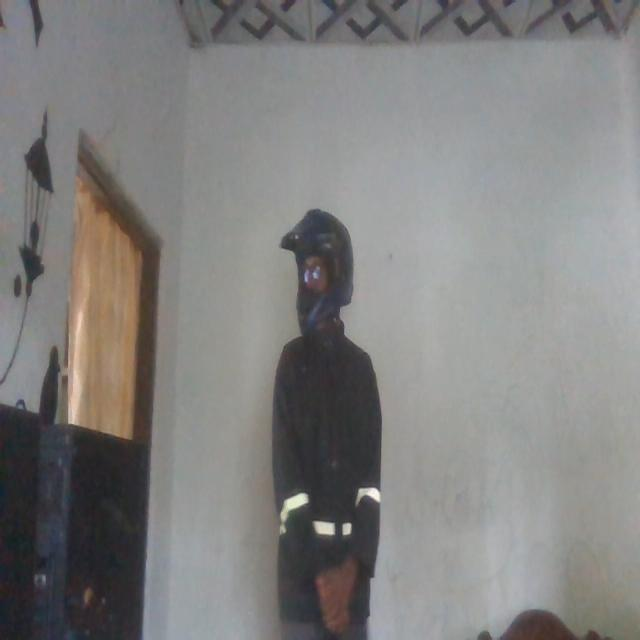Helmet_Wearer: (274, 197, 358, 336)
Jacket_Wearer: (269, 322, 379, 628)
Person: (257, 196, 384, 640)
